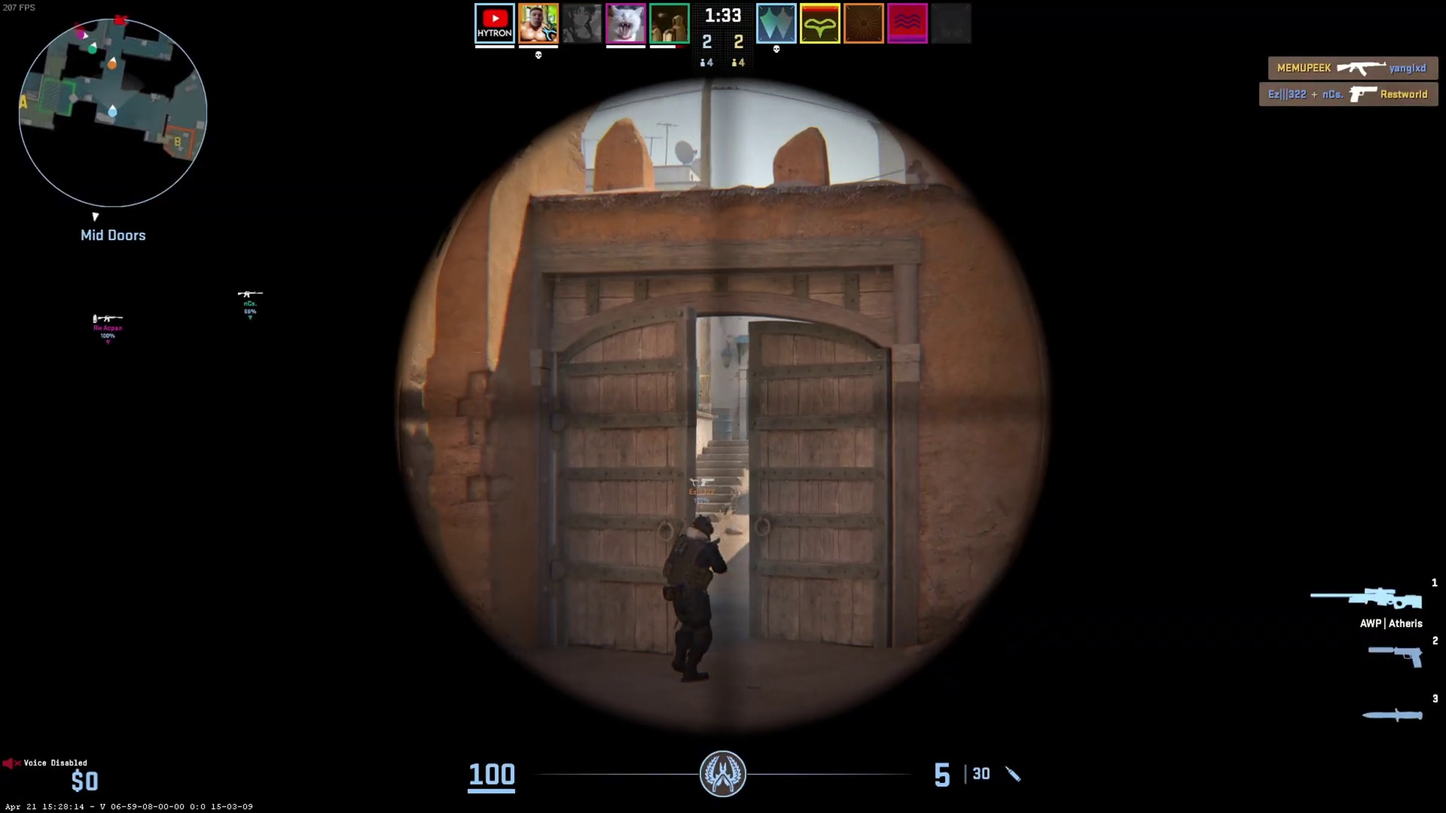CT: (667, 514, 718, 679)
